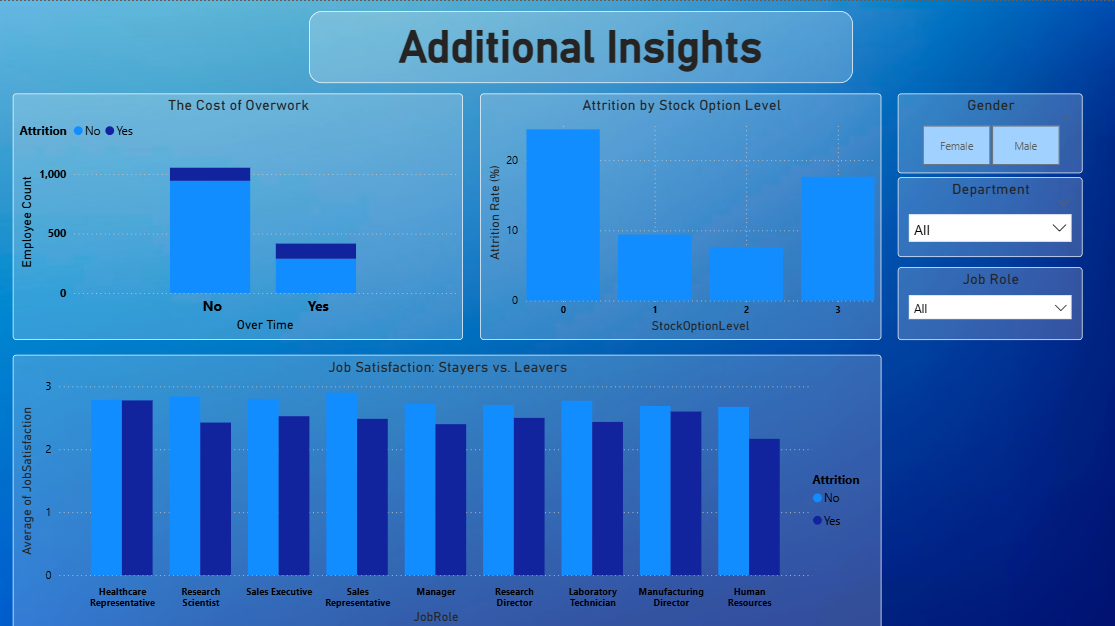

What the dashboard file says about the page in this screenshot:
{"tool":"powerbi","page":{"name":"Page 2","canvas":[1280,720],"ordinal":1},"visuals":[{"type":"textbox","box":[353.8,11.2,621.2,82.5],"z":1000},{"type":"columnChart","title":"The Cost of Overwork","fields":{"Category":["HR-Employee-Attrition.OverTime"],"Series":["HR-Employee-Attrition.Attrition"],"Y":["CountNonNull(HR-Employee-Attrition.EmployeeCount)"]},"box":[15.7,105.7,514.3,281.4],"z":5000},{"type":"clusteredColumnChart","title":"Attrition by Stock Option Level","fields":{"Category":["HR-Employee-Attrition.StockOptionLevel"],"Y":["HR-Employee-Attrition.Attrition Rate (%)"]},"box":[550,105.7,458.6,281.4],"z":6000},{"type":"slicer","title":"Gender","fields":{"Values":["HR-Employee-Attrition.Gender"]},"box":[1027.1,105.7,211.4,91.4],"z":9000},{"type":"slicer","title":"Department","fields":{"Values":["HR-Employee-Attrition.Department"]},"box":[1027.1,201.4,211.4,91.4],"z":10000},{"type":"slicer","title":"Job Role","fields":{"Values":["HR-Employee-Attrition.JobRole"]},"box":[1027.1,304.3,211.4,82.9],"z":11000},{"type":"clusteredColumnChart","title":"Job Satisfaction: Stayers vs. Leavers","fields":{"Category":["HR-Employee-Attrition.JobRole"],"Y":["Avg(HR-Employee-Attrition.JobSatisfaction)"],"Series":["HR-Employee-Attrition.Attrition"]},"box":[15.7,404.3,992.9,315.7],"z":11001}]}

Visuals, with their boxes in screenshot pixels (x1, y1, x2, y2), scaled from the page's 1280x720 canvas onto the 1115x626 screenshot:
textbox: [308,10,849,81]
"The Cost of Overwork" columnChart: [14,92,462,337]
"Attrition by Stock Option Level" clusteredColumnChart: [479,92,879,337]
"Gender" slicer: [895,92,1079,171]
"Department" slicer: [895,175,1079,255]
"Job Role" slicer: [895,265,1079,337]
"Job Satisfaction: Stayers vs. Leavers" clusteredColumnChart: [14,352,879,625]
